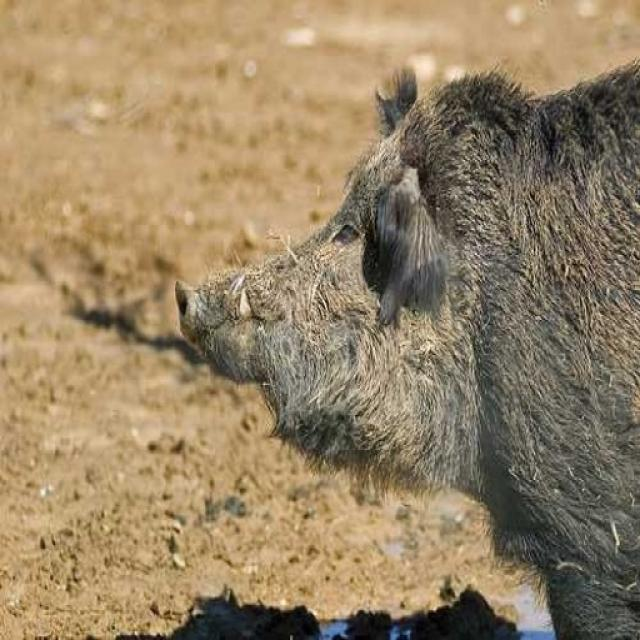pig: (166, 44, 640, 597)
